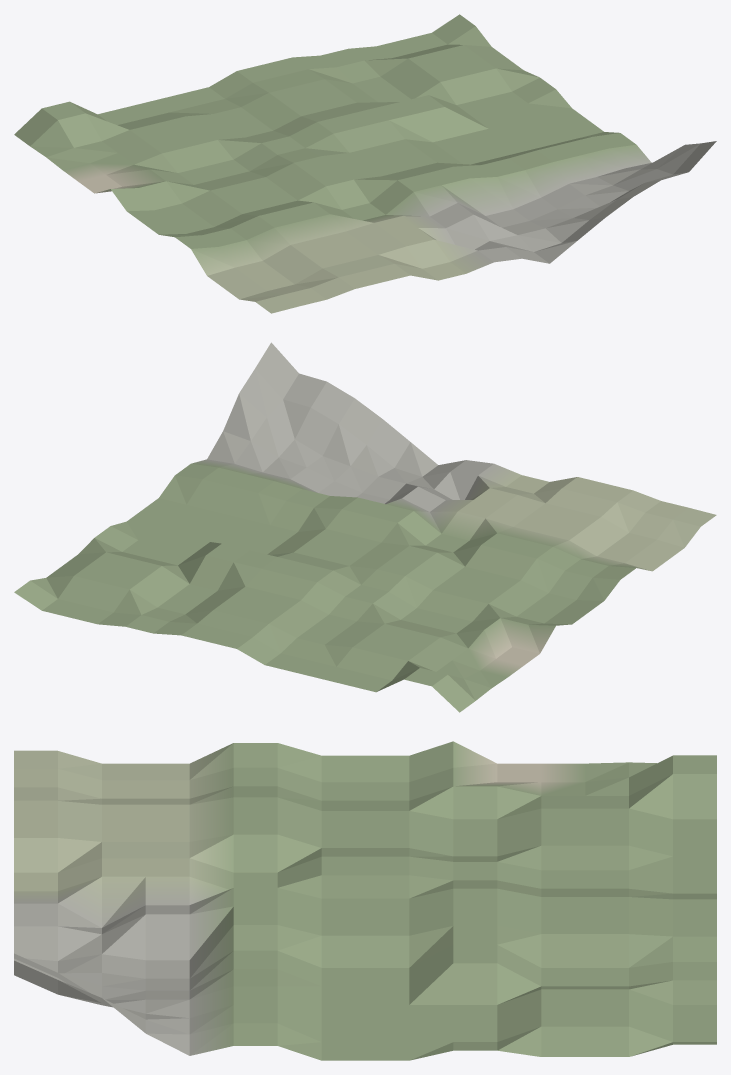
3 renders of one model, top to bottom at view 1: azimuth 30°, elevation 25°; view 2: azimuth 150°, elevation 25°; view 3: azimuth 270°, elevation 25°, orthographic. The views are drawn at different scales.
Size of the model in its own units: 32 by 5.83 by 32.
